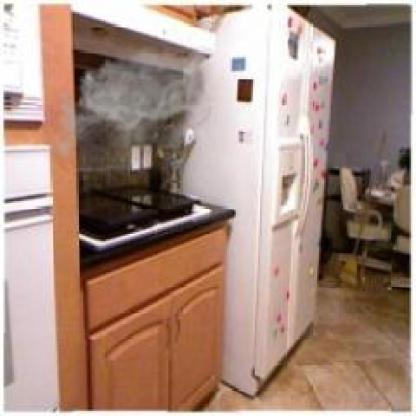Smoke: (48, 40, 214, 170)
